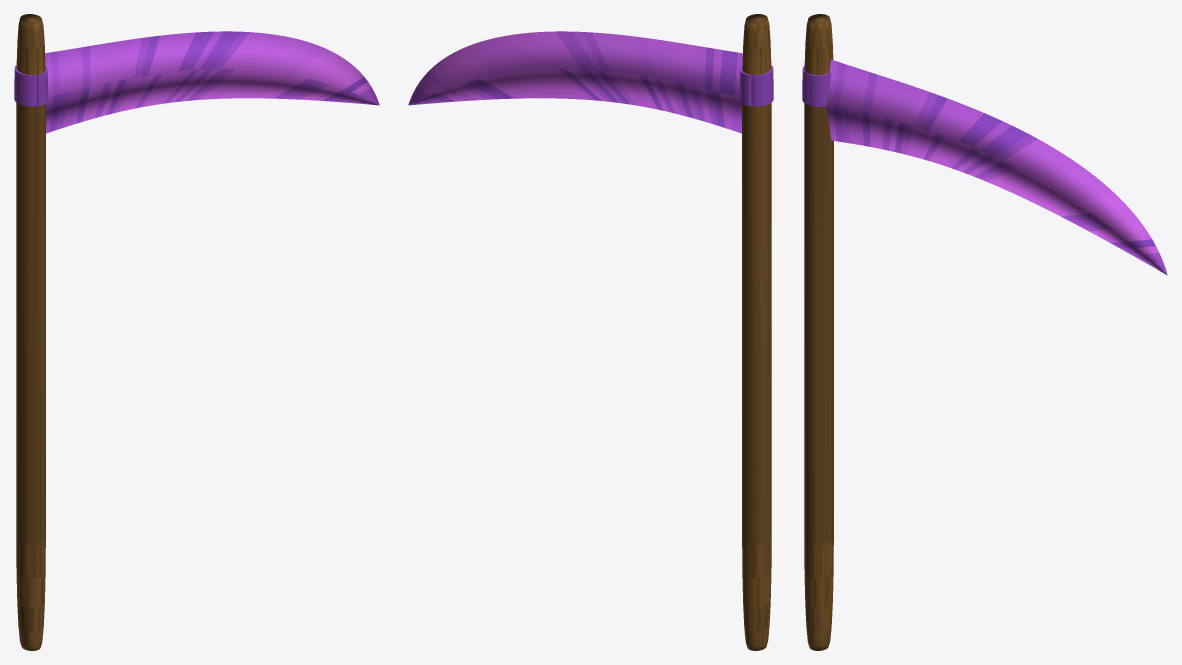
The model's file is scynthe_Mauve.fbx.
3 renders of one model, left to right at view 1: azimuth 30°, elevation 25°; view 2: azimuth 150°, elevation 25°; view 3: azimuth 330°, elevation 25°, orthographic.
Parts seen in each view (by area): view 1: NurbsPath, Cylinder; view 2: NurbsPath, Cylinder; view 3: NurbsPath, Cylinder.
Boxes of the visible parts, box(x1,y1,x2,y2) form: NurbsPath: box(45, 31, 379, 133); Cylinder: box(14, 14, 47, 650); NurbsPath: box(408, 31, 742, 133); Cylinder: box(740, 14, 773, 650); NurbsPath: box(825, 59, 1167, 275); Cylinder: box(802, 14, 833, 650).
Bounding box in the file's own units: 793 × 1310 × 68.2.
Materials: 1 (1 with a texture image).
